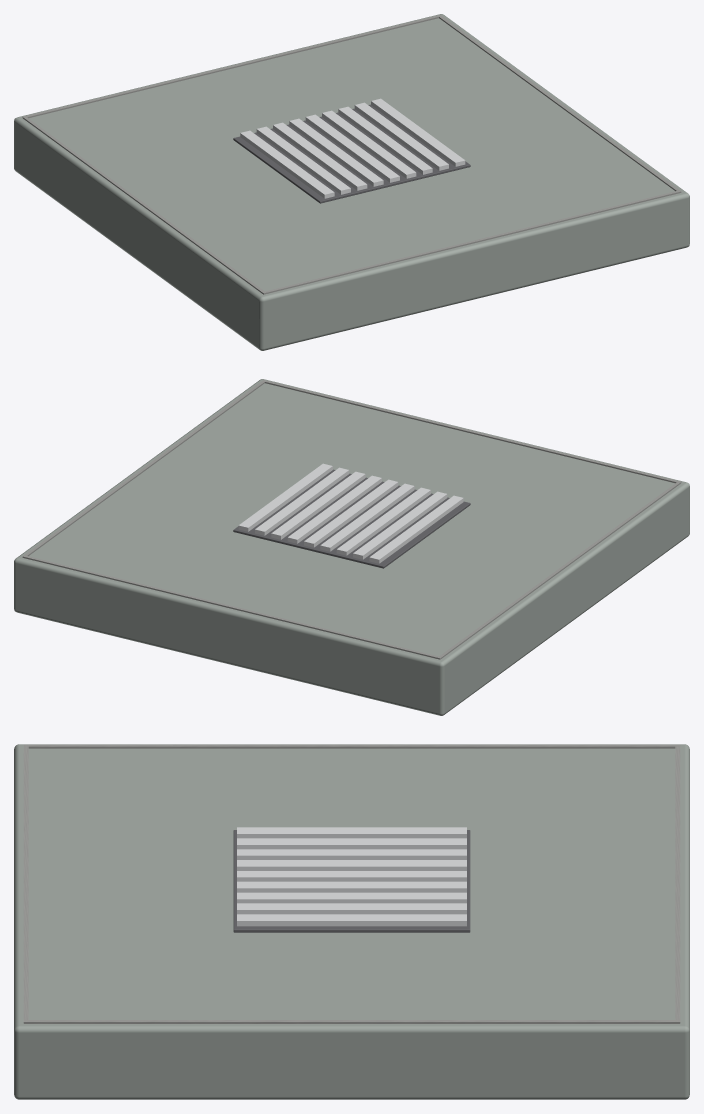
Rendered from prison-complex-builder-drain-floor-e38e301a__25608.glb.
The picture shows the model from 3 angles, top to bottom: view 1: azimuth 30°, elevation 25°; view 2: azimuth 150°, elevation 25°; view 3: azimuth 270°, elevation 25°; orthographic projection. The views are drawn at different scales.
Visible parts, largest first — view 1: drain-floor; view 2: drain-floor; view 3: drain-floor.
Part boxes in pixels (box(x1,y1,x2,y2)): drain-floor: box(14, 14, 689, 350); drain-floor: box(14, 379, 689, 715); drain-floor: box(14, 744, 689, 1099).
Size of the model in its own units: 1 by 0.139 by 1.
4 materials, 1 textured.
